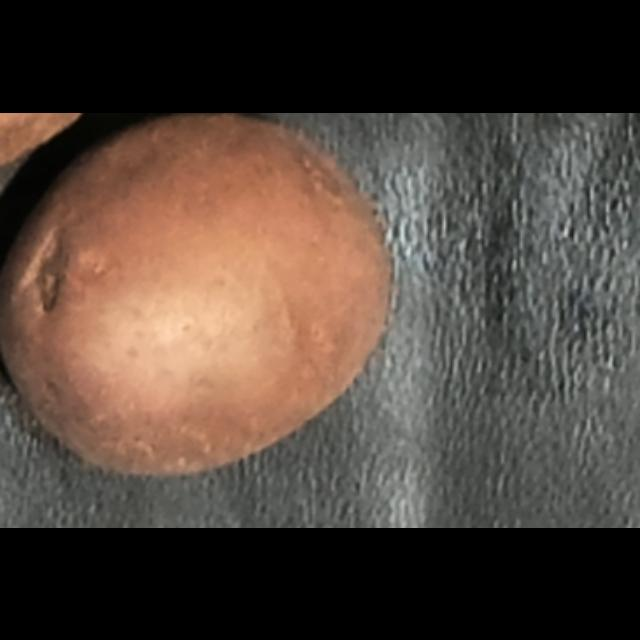Diseased-fungal potato: (1, 112, 402, 482)
